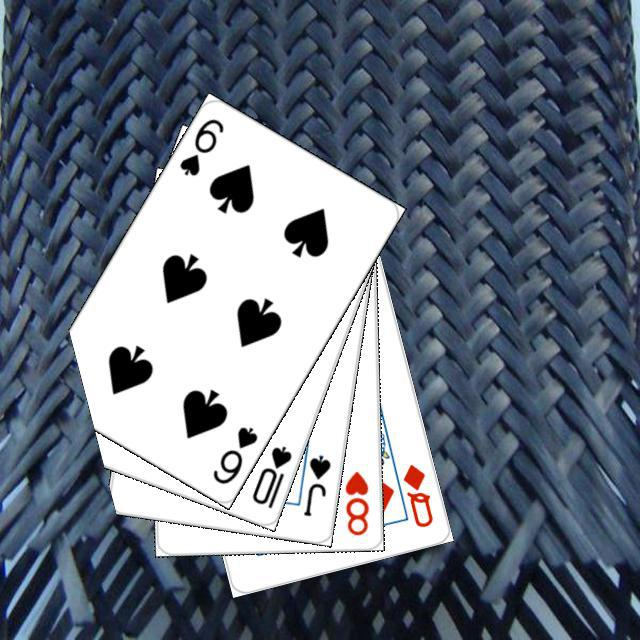10s: (247, 441, 294, 510)
6s: (207, 421, 260, 486), (174, 113, 226, 178)
8h: (340, 466, 370, 538)
Js: (299, 450, 333, 518)
Qd: (398, 459, 435, 529)
